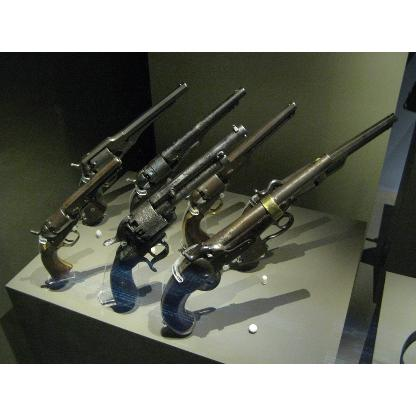gun: (101, 87, 398, 337), (160, 152, 334, 336), (98, 124, 250, 312), (223, 113, 398, 271), (124, 86, 246, 244), (176, 102, 296, 250), (69, 83, 189, 225), (71, 82, 189, 226), (29, 155, 126, 289), (31, 156, 123, 289)
